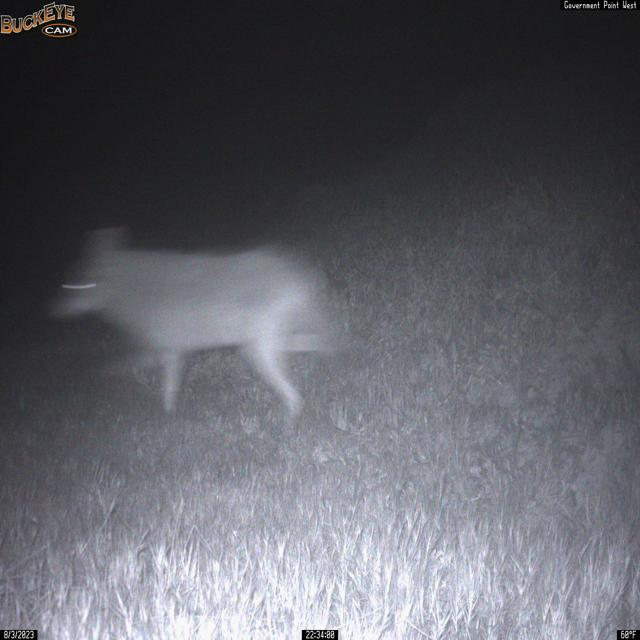coyote: (45, 222, 352, 435)
